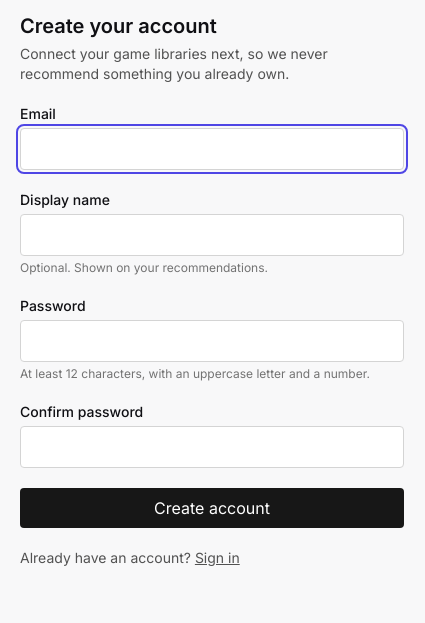
AC1 — errors are announced and linked to their input › sets aria-invalid and points aria-describedby at the error message
The width and height of the screenshot is (425, 623).
Type "diego@" into the field labelled "Email". click: [212, 149]
box: top-left (20, 128), bottom-right (404, 170)
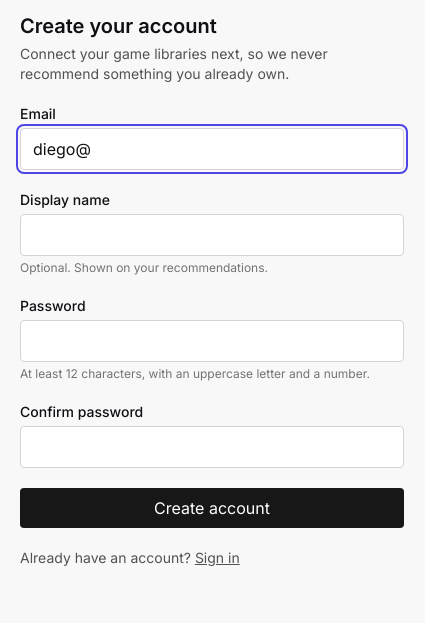
Click the button "Create account". click: [212, 508]
box: top-left (20, 488), bottom-right (404, 528)
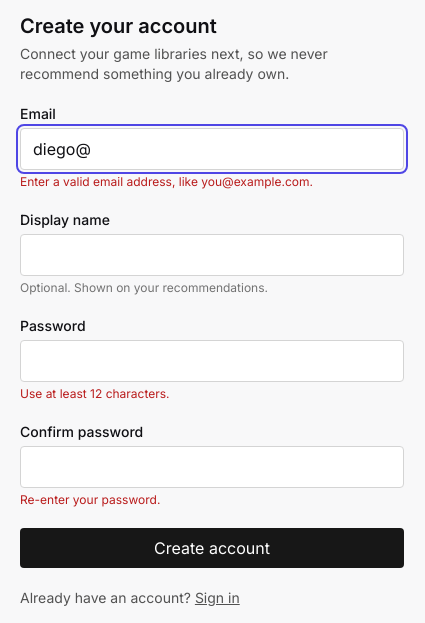
Expected: the message with id "email-error" shows "you@example.com", top-left (20, 174), bottom-right (313, 189)
